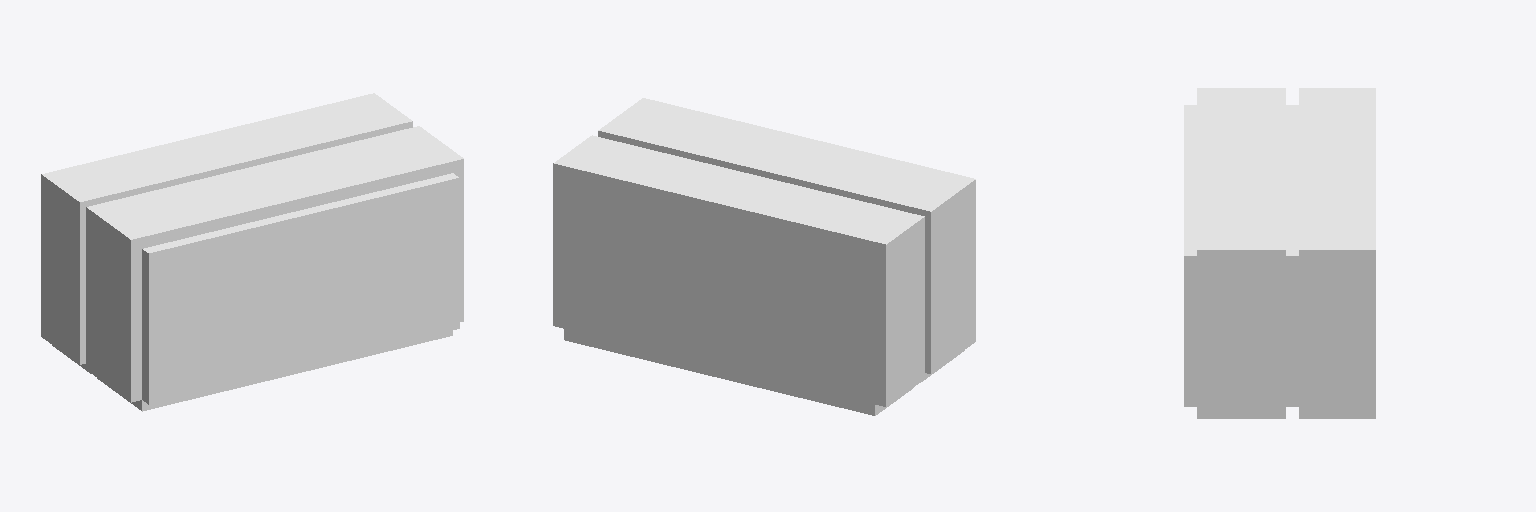
The model's file is block_typeA3.obj.
The picture shows the model from 3 angles: view 1: azimuth 30°, elevation 25°; view 2: azimuth 150°, elevation 25°; view 3: azimuth 270°, elevation 25°; orthographic projection.
Parts seen in each view (by area): view 1: block_typeA3; view 2: block_typeA3; view 3: block_typeA3.
Boxes of the visible parts, box(x1,y1,x2,y2) form: block_typeA3: box(41, 93, 463, 411); block_typeA3: box(553, 98, 975, 415); block_typeA3: box(1184, 88, 1375, 418).
Size of the model in its own units: 0.2 by 0.1 by 0.1.